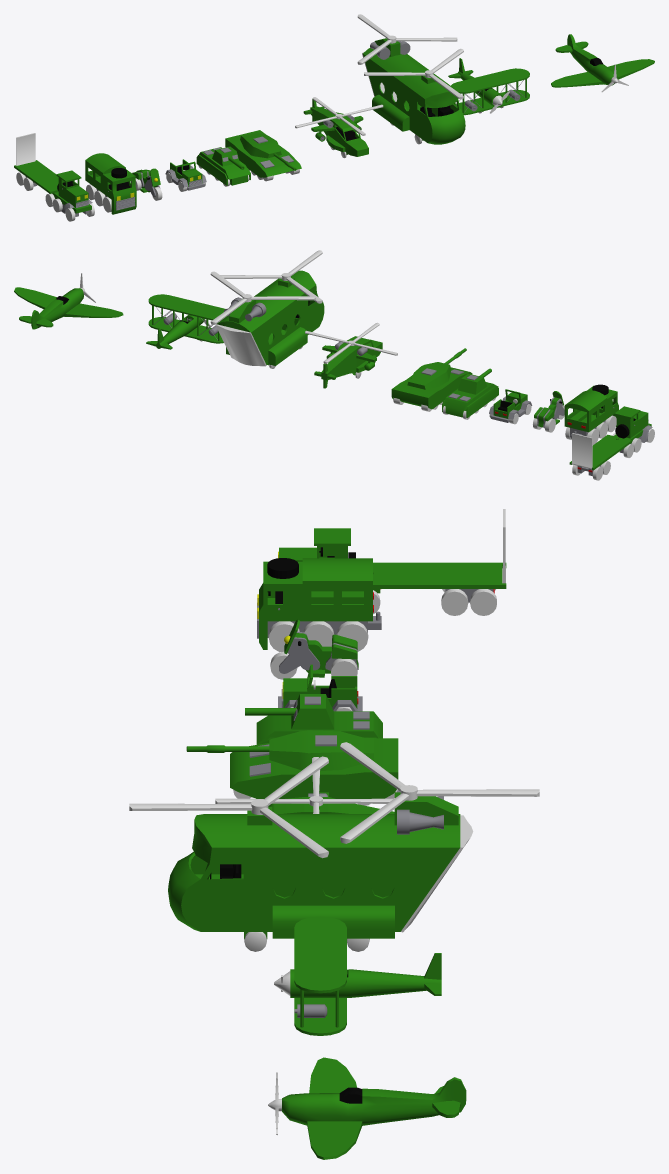
File: ToyVehicles.fbx
3 renders of one model, top to bottom at view 1: azimuth 30°, elevation 25°; view 2: azimuth 150°, elevation 25°; view 3: azimuth 270°, elevation 25°, orthographic. The views are drawn at different scales.
Parts seen in each view (by area): view 1: Chinook, BiPlane, ArmyTruck, Spitfire, AttackHelicopter, HeavyTank, FlatbedTruck, LightTank, HeavyTank_Turret, FlatbedTruck_Trailor, Jeep, Chinook_Prop_Rear (+5 smaller); view 2: Chinook, BiPlane, Spitfire, ArmyTruck, AttackHelicopter, HeavyTank, Chinook_Hatch, LightTank, FlatbedTruck, HeavyTank_Turret, Jeep, FlatbedTruck_Trailor (+6 smaller); view 3: Chinook, BiPlane, Spitfire, ArmyTruck, HeavyTank, FlatbedTruck_Trailor, HeavyTank_Turret, Chinook_Prop_Rear, Chinook_Prop_Front, Trike_Base, LightTank, Jeep (+4 smaller).
Part boxes in pixels (box(x1,y1,x2,y2)): Chinook: box(363, 38, 465, 144); BiPlane: box(448, 58, 529, 115); ArmyTruck: box(85, 153, 136, 214); Spitfire: box(551, 34, 654, 87); AttackHelicopter: box(303, 99, 368, 156); HeavyTank: box(225, 130, 301, 177); FlatbedTruck: box(52, 170, 92, 216); LightTank: box(196, 147, 250, 185); HeavyTank_Turret: box(240, 132, 296, 170); FlatbedTruck_Trailor: box(14, 160, 58, 193); Jeep: box(165, 159, 206, 190); Chinook_Prop_Rear: box(357, 14, 457, 64); Chinook: box(216, 270, 324, 365); BiPlane: box(146, 294, 226, 349); Spitfire: box(14, 287, 123, 329); ArmyTruck: box(564, 384, 618, 438); AttackHelicopter: box(314, 336, 382, 388); HeavyTank: box(391, 367, 472, 409); Chinook_Hatch: box(215, 324, 266, 366); LightTank: box(442, 382, 498, 417); FlatbedTruck: box(614, 406, 652, 453); HeavyTank_Turret: box(407, 348, 466, 389); Jeep: box(489, 389, 532, 422); FlatbedTruck_Trailor: box(569, 434, 631, 475); Chinook: box(168, 790, 460, 939); BiPlane: box(290, 916, 441, 1035); Spitfire: box(282, 1057, 466, 1159); ArmyTruck: box(257, 558, 381, 649); HeavyTank: box(230, 738, 398, 798); FlatbedTruck_Trailor: box(373, 562, 506, 602); HeavyTank_Turret: box(186, 730, 373, 770); Chinook_Prop_Rear: box(340, 742, 539, 843); Chinook_Prop_Front: box(129, 756, 328, 858); Trike_Base: box(279, 619, 358, 677); LightTank: box(256, 711, 382, 744); Jeep: box(278, 664, 362, 711).
Bounding box in the file's own units: 157 × 18.91 × 46.73.
